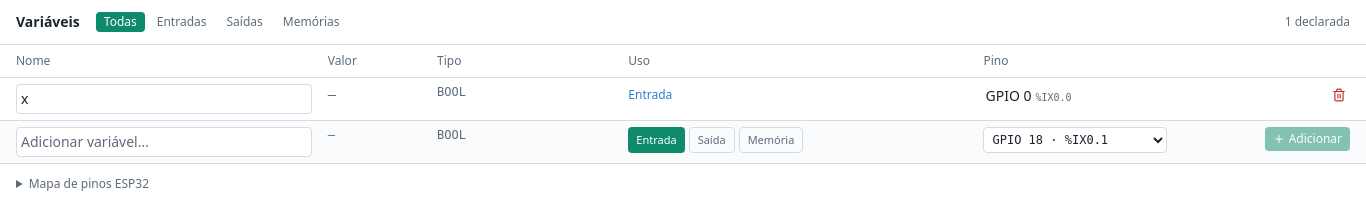
Test: TabelaVariaveis — bloqueio durante a simulação (revisão 2026-09-23, simetria com o contrato de E/S do ambiente) › sem `simulacaoAtiva`, tudo continua habilitado (comportamento de sempre)
Type "y" into the field named "Nome da nova variável" at (164,142), box x1=16 y1=127 x2=312 y2=157
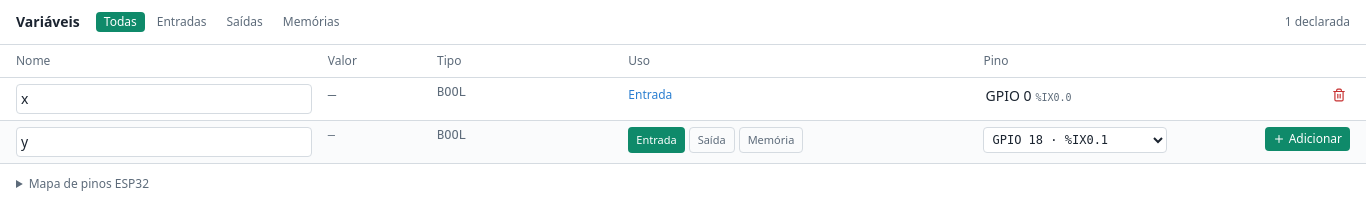
Expected: the field named "Nome da variável x" is enabled, x1=16 y1=84 x2=312 y2=114
Expected: the button "Adicionar" is enabled, x1=1265 y1=127 x2=1350 y2=151
